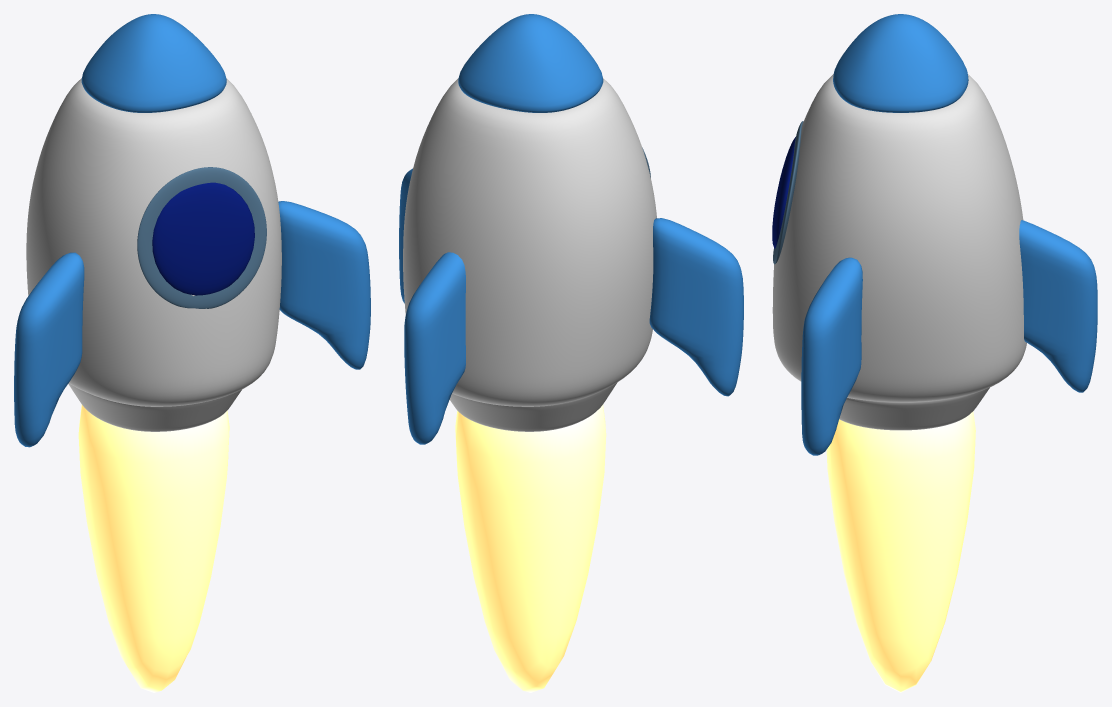
Rendered from mini_spaceship.glb.
3 views of the same model, side by side, from view 1: azimuth 30°, elevation 25°; view 2: azimuth 150°, elevation 25°; view 3: azimuth 270°, elevation 25° (orthographic).
Visible parts, largest first — view 1: Cube_0, Cube.006_10, Cube.003_5, Cube.001_3, Cube.002_4, Sphere_7, Sphere.002_17, Cube.005_9; view 2: Cube_0, Cube.006_10, Cube.002_4, Cube.001_3, Cube.004_6, Cube.005_9, Cube.003_5; view 3: Cube_0, Cube.006_10, Cube.001_3, Cube.004_6, Cube.003_5, Cube.005_9, Sphere_7, Sphere.002_17.
Part boxes in pixels (<box>): Cube_0: <box>26,78,281,406</box>; Cube.006_10: <box>78,404,229,692</box>; Cube.003_5: <box>278,201,370,369</box>; Cube.001_3: <box>81,14,226,112</box>; Cube.002_4: <box>14,252,84,447</box>; Sphere_7: <box>152,182,254,295</box>; Sphere.002_17: <box>137,167,266,308</box>; Cube.005_9: <box>68,383,241,431</box>; Cube_0: <box>403,78,656,406</box>; Cube.006_10: <box>455,405,606,692</box>; Cube.002_4: <box>649,218,743,396</box>; Cube.001_3: <box>458,14,603,112</box>; Cube.004_6: <box>404,252,465,444</box>; Cube.005_9: <box>449,382,617,431</box>; Cube.003_5: <box>399,168,412,303</box>; Cube_0: <box>772,74,1026,402</box>; Cube.006_10: <box>826,411,975,692</box>; Cube.001_3: <box>833,14,968,112</box>; Cube.004_6: <box>1019,220,1097,392</box>; Cube.003_5: <box>801,257,862,455</box>; Cube.005_9: <box>839,387,989,430</box>; Sphere_7: <box>772,137,795,248</box>; Sphere.002_17: <box>773,121,803,264</box>.
Bounding box in the file's own units: 3.17 × 5.91 × 2.58.
